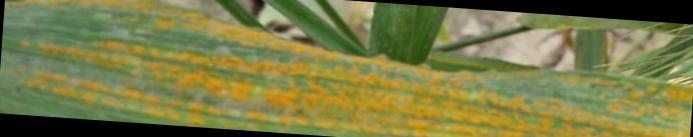Wheat: (14, 6, 216, 107), (473, 87, 687, 137), (221, 45, 299, 128), (306, 58, 375, 137), (381, 74, 459, 137)
